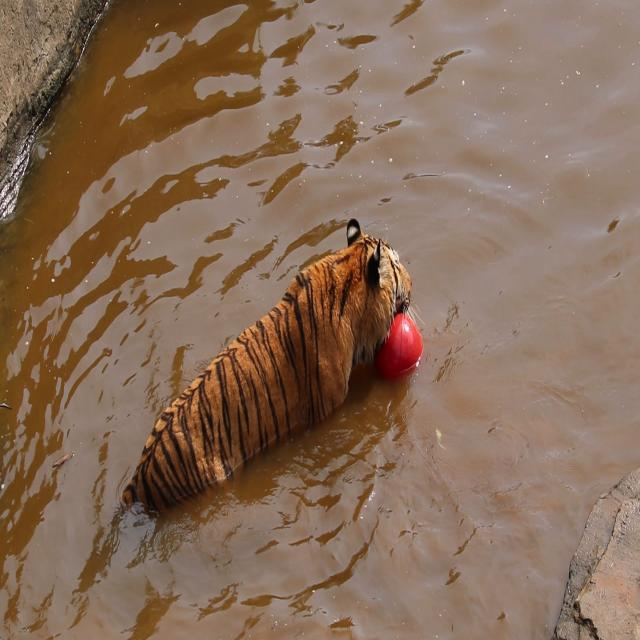Tiger: (137, 212, 456, 574)
